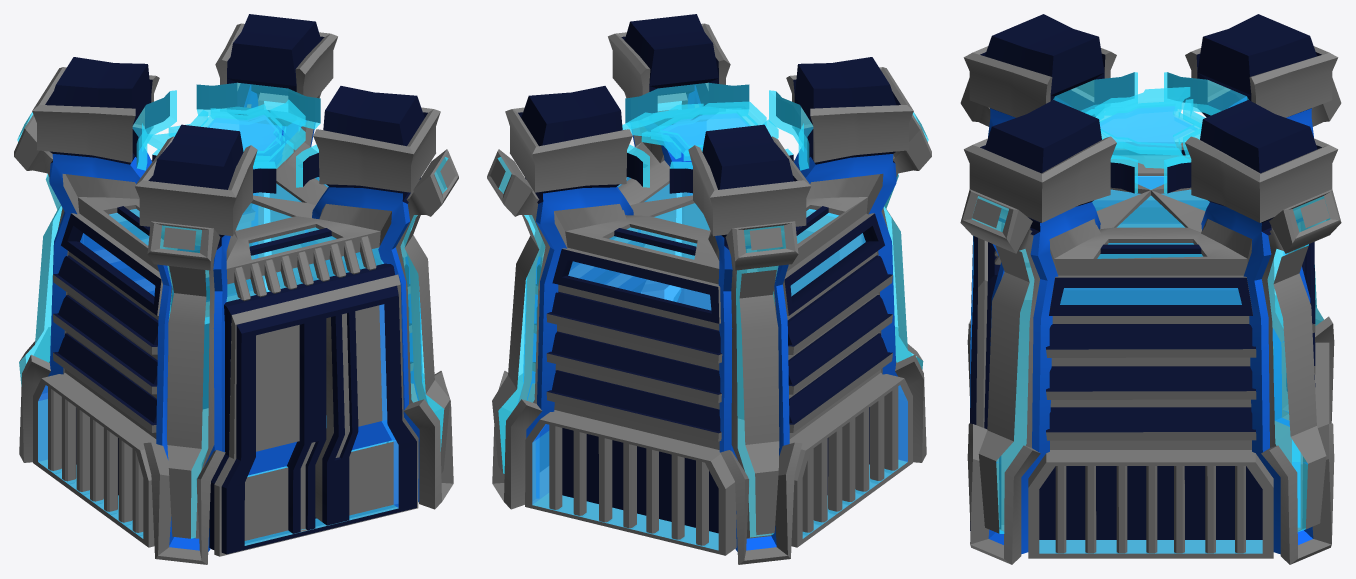
The model's file is birim kule3.fbx.
3 renders of one model, left to right at view 1: azimuth 30°, elevation 25°; view 2: azimuth 150°, elevation 25°; view 3: azimuth 270°, elevation 25°, orthographic. The views are drawn at different scales.
Visible parts, largest first — view 1: seviye 3; view 2: seviye 3; view 3: seviye 3.
Part boxes in pixels (x1,y1,x2,y2): seviye 3: (14, 14, 458, 564); seviye 3: (487, 14, 931, 564); seviye 3: (960, 14, 1341, 564).
Size of the model in its own units: 255 by 303 by 255.
